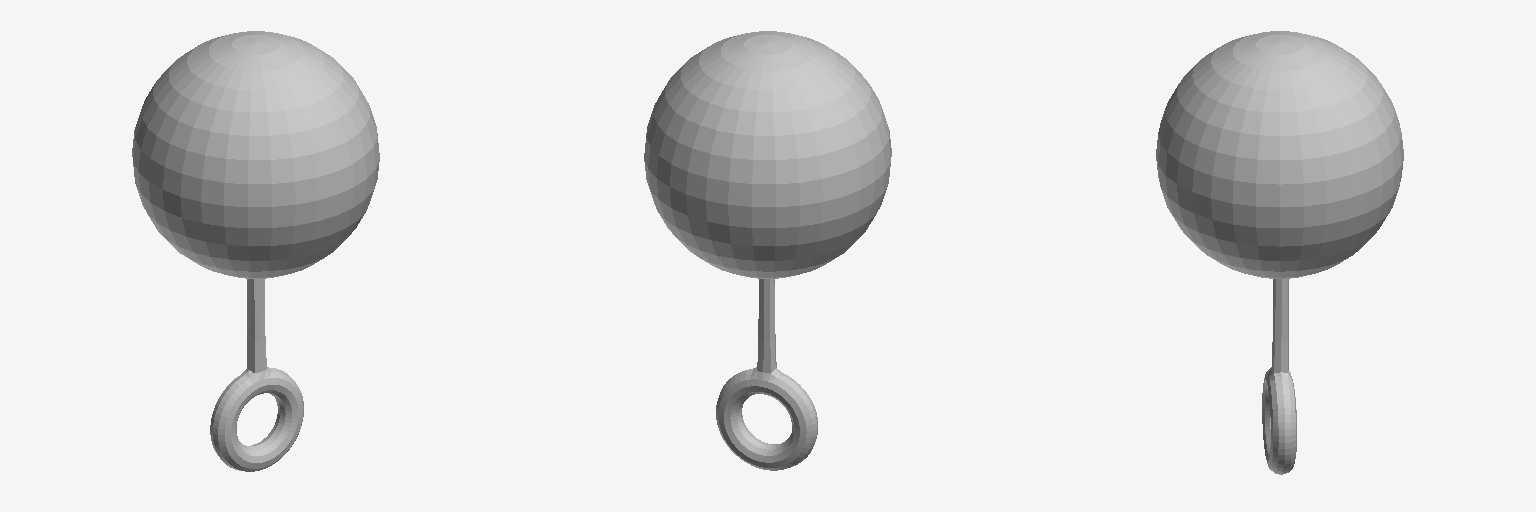
File: Baby Cabela Psychic Baby Rattle. Of The Wishers Gifts.obj
3 renders of one model, left to right at view 1: azimuth 30°, elevation 25°; view 2: azimuth 150°, elevation 25°; view 3: azimuth 270°, elevation 25°, orthographic.
Parts seen in each view (by area): view 1: Baby_Cabela_Psychic_Baby_Rattle_Of_The_Wishers_Gifts_Sphere; view 2: Baby_Cabela_Psychic_Baby_Rattle_Of_The_Wishers_Gifts_Sphere; view 3: Baby_Cabela_Psychic_Baby_Rattle_Of_The_Wishers_Gifts_Sphere.
Part boxes in pixels (bbox=[...]): Baby_Cabela_Psychic_Baby_Rattle_Of_The_Wishers_Gifts_Sphere: bbox=[132, 31, 379, 471]; Baby_Cabela_Psychic_Baby_Rattle_Of_The_Wishers_Gifts_Sphere: bbox=[644, 31, 891, 470]; Baby_Cabela_Psychic_Baby_Rattle_Of_The_Wishers_Gifts_Sphere: bbox=[1156, 31, 1403, 474].
Size of the model in its own units: 1.54 by 2.91 by 1.54.